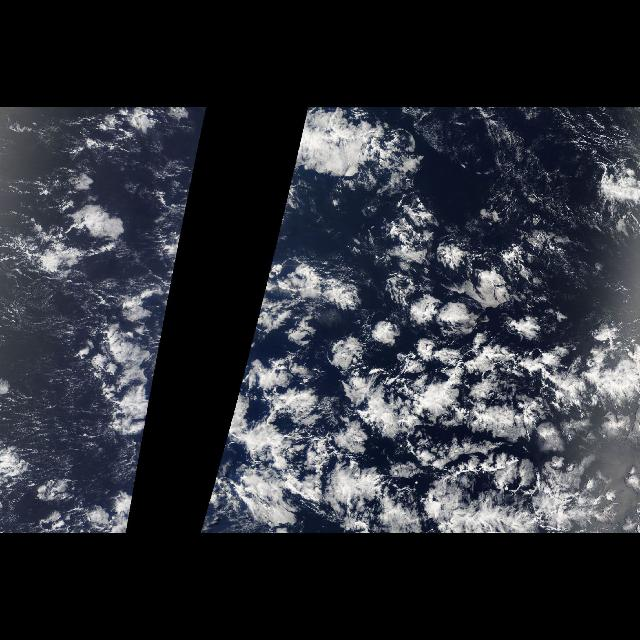Flower: (296, 225, 636, 450)
Sugar: (421, 111, 594, 225)
